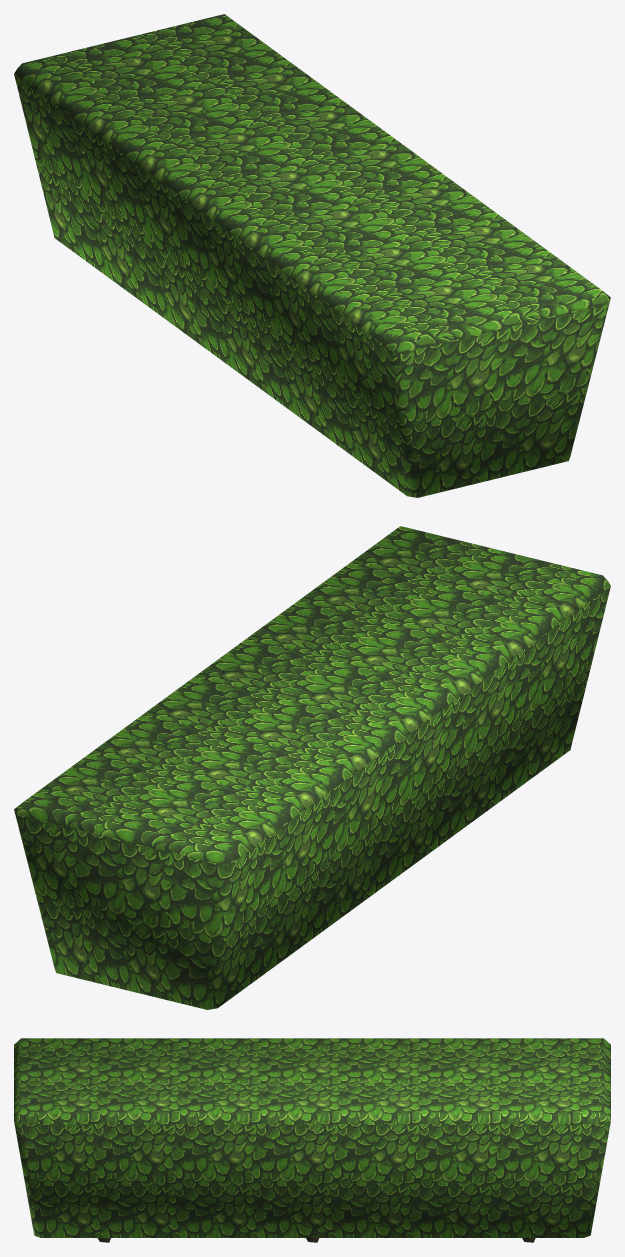
The model's file is e_courtyard_hedge_boxy.fbx.
3 renders of one model, top to bottom at view 1: azimuth 30°, elevation 25°; view 2: azimuth 150°, elevation 25°; view 3: azimuth 270°, elevation 25°, orthographic. The views are drawn at different scales.
Visible parts, largest first — view 1: polySurface2995; view 2: polySurface2995; view 3: polySurface2995.
Part boxes in pixels (box(x1,y1,x2,y2)): polySurface2995: box(14, 14, 610, 497); polySurface2995: box(14, 526, 610, 1009); polySurface2995: box(14, 1038, 610, 1242).
Size of the model in its own units: 0.6514 by 0.5796 by 2.
